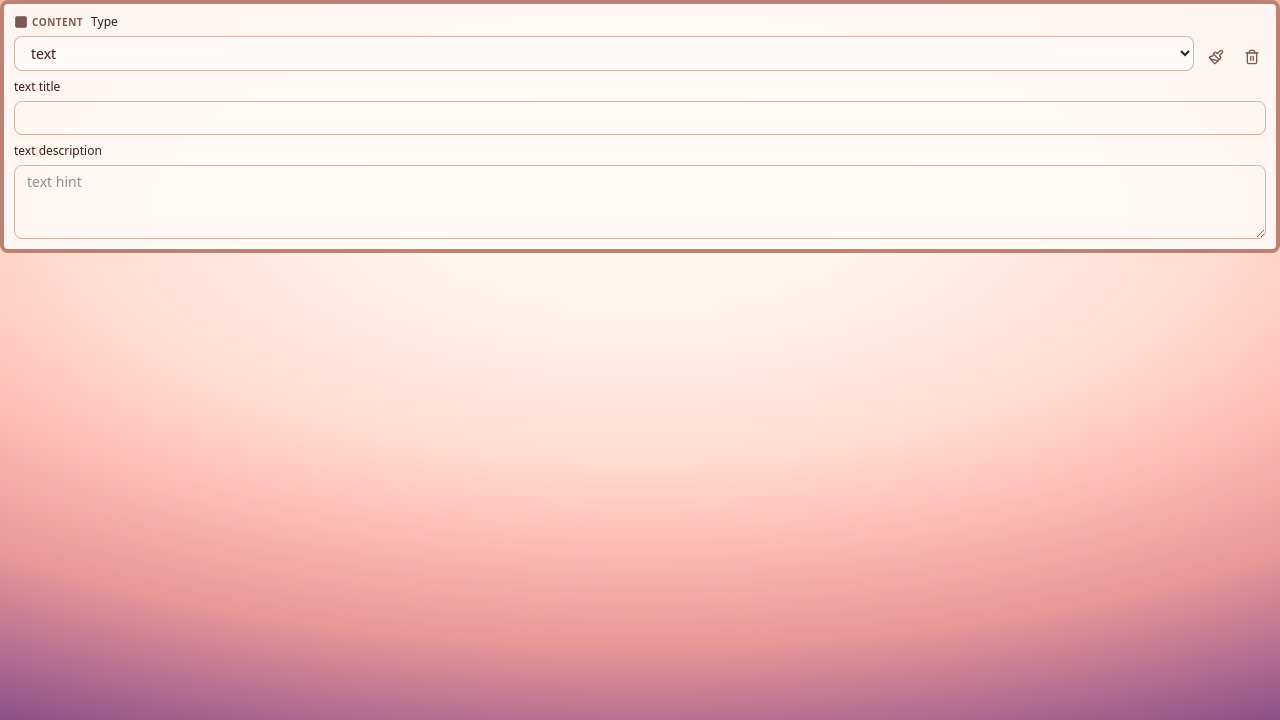
Test: LeafEditor › its own style popup › offers 'own title' for a text leaf
Click the button named "Section style".
click(1216, 57)  # box [1202,43,1230,71]
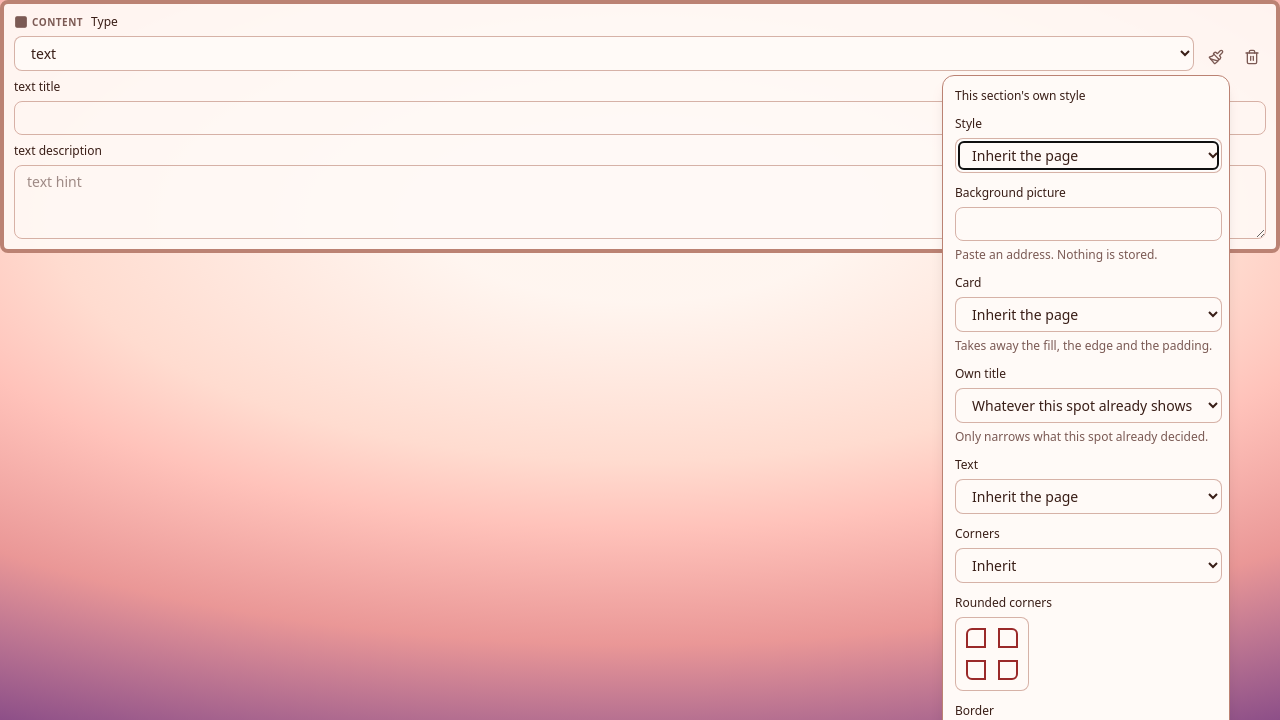
Now the dropdown labelled "Own title" is shown, box [955,388,1222,423]
